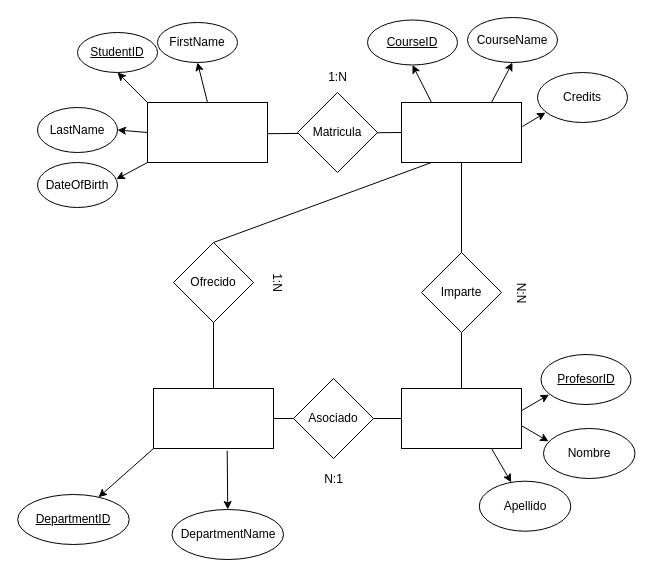
This 653x577 diagram has some shape labels left out. Here are the shapes that lost their labels. From the top down, the centre of each, then its label:
the point at 207,132: Estudiante
the point at 461,132: Curso
the point at 213,418: Departamento
the point at 461,418: Profesor
